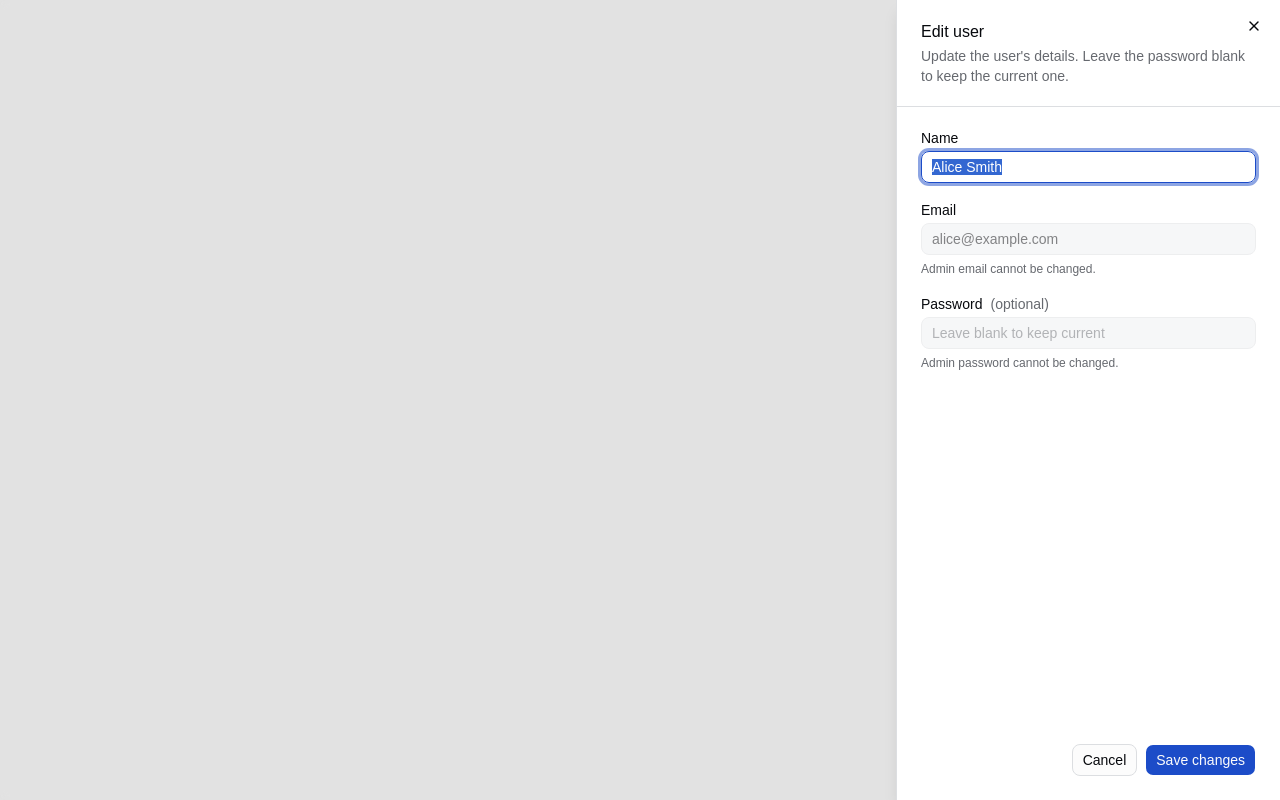
Test: UserDialog › edit mode (user provided) › validation › shows an email format error for an invalid email
This screenshot has width=1280, height=800.
Replace the text in the field labelled "Email" with "not-an-email" at (1088, 239), box [921, 223, 1256, 255]
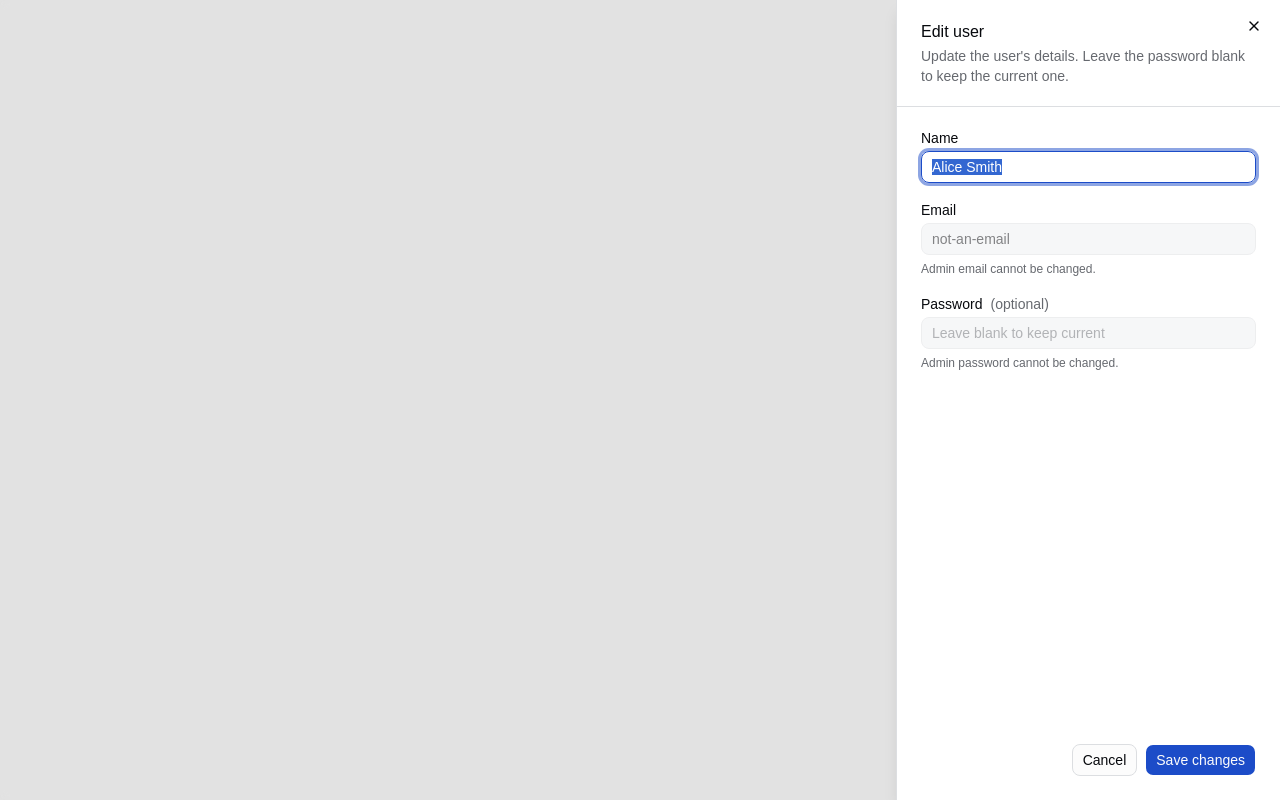
Click the button "Save changes" at (1201, 760), box [1145, 744, 1256, 776]
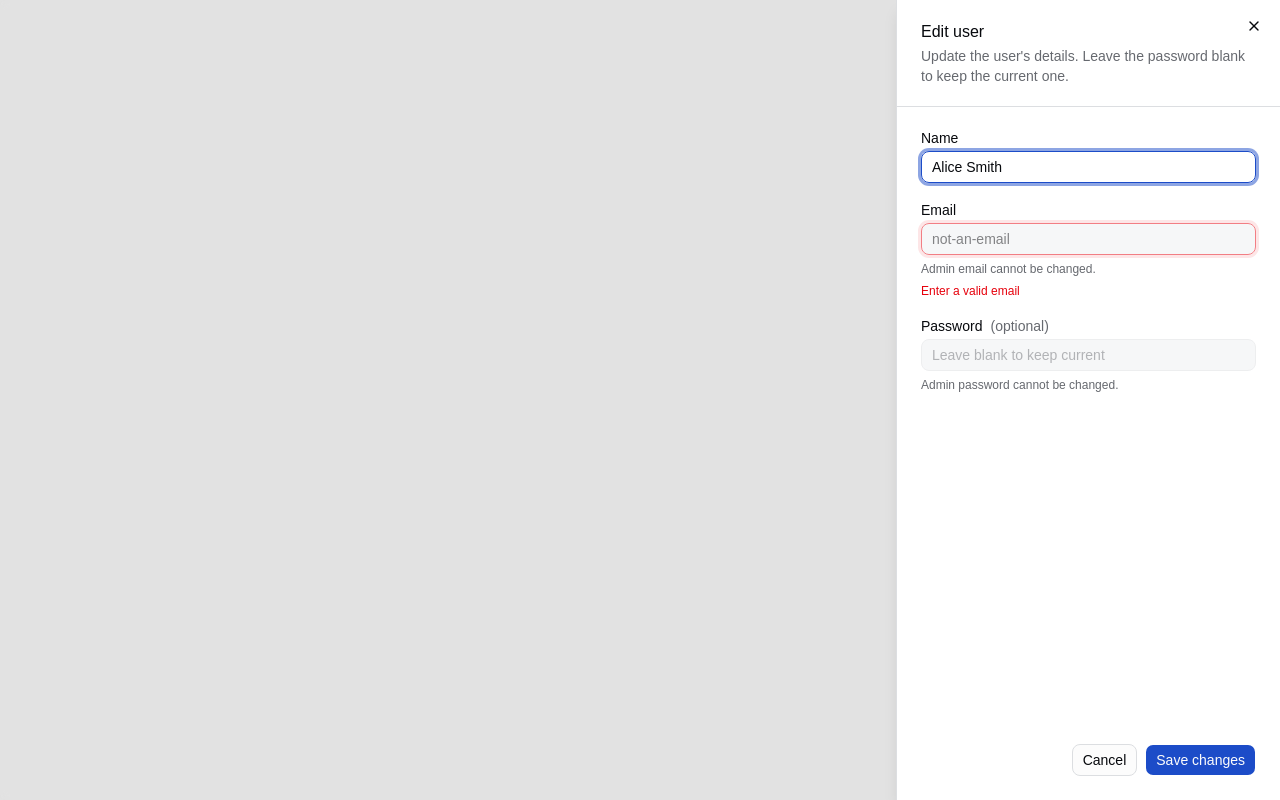
Now the text "Enter a valid email" is shown, box [921, 284, 1020, 298]
